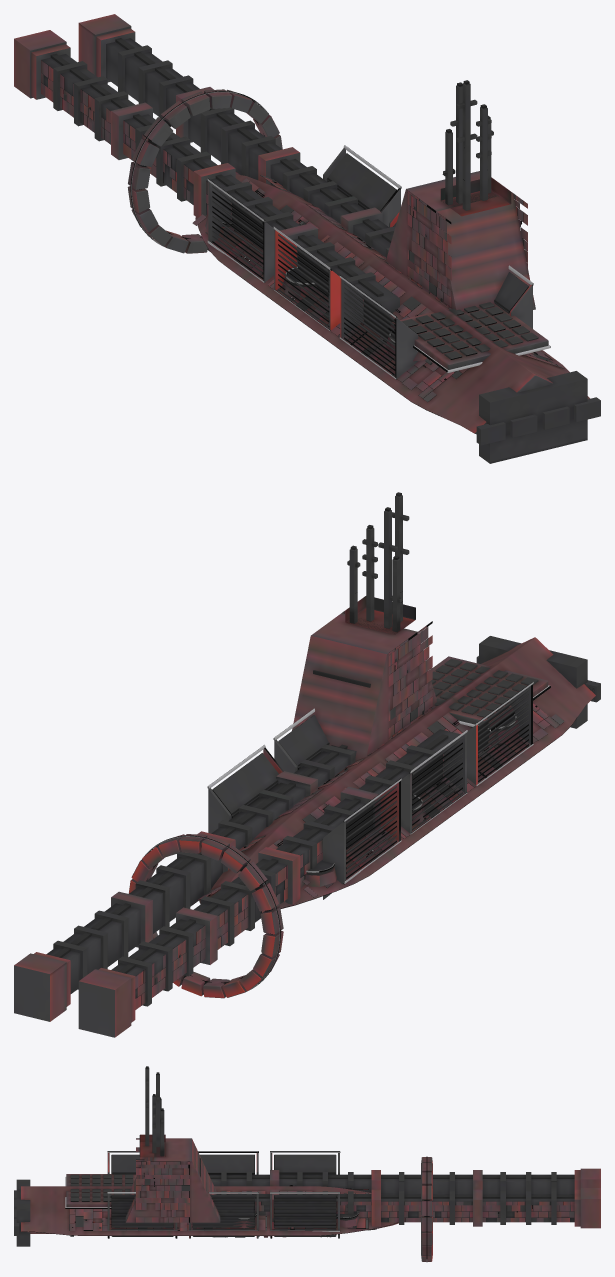
File: machine_killer_hero.glb
3 views of the same model, one above another, from view 1: azimuth 30°, elevation 25°; view 2: azimuth 150°, elevation 25°; view 3: azimuth 270°, elevation 25° (orthographic). The views are drawn at different scales.
Parts seen in each view (by area): view 1: HullBaked; view 2: HullBaked; view 3: HullBaked.
Part boxes in pixels (left/top/right/bottom): HullBaked: left=14, top=14, right=600, bottom=463; HullBaked: left=14, top=492, right=600, bottom=1037; HullBaked: left=14, top=1066, right=600, bottom=1262.
Bounding box in the file's own units: 228 × 437 × 1156.
Materials: 1 (1 with a texture image).
